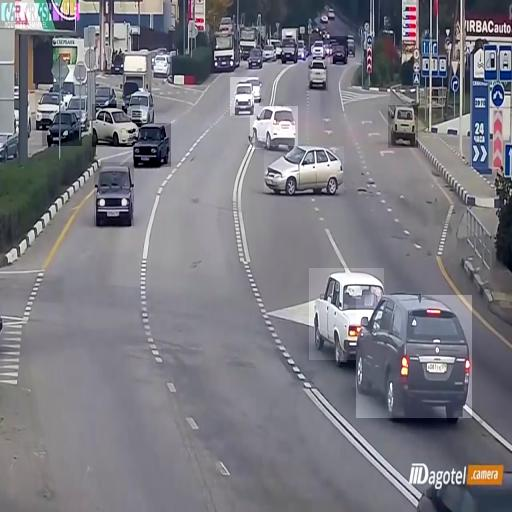小汽车: (356, 295, 472, 418), (309, 268, 384, 360), (264, 146, 344, 193), (94, 162, 134, 226), (92, 104, 140, 147), (250, 106, 298, 149), (133, 124, 171, 168), (42, 111, 82, 146), (213, 24, 244, 66), (388, 105, 418, 148), (230, 77, 259, 116), (35, 90, 58, 130), (308, 54, 328, 91), (278, 36, 302, 63), (330, 36, 348, 64), (152, 52, 172, 77)
